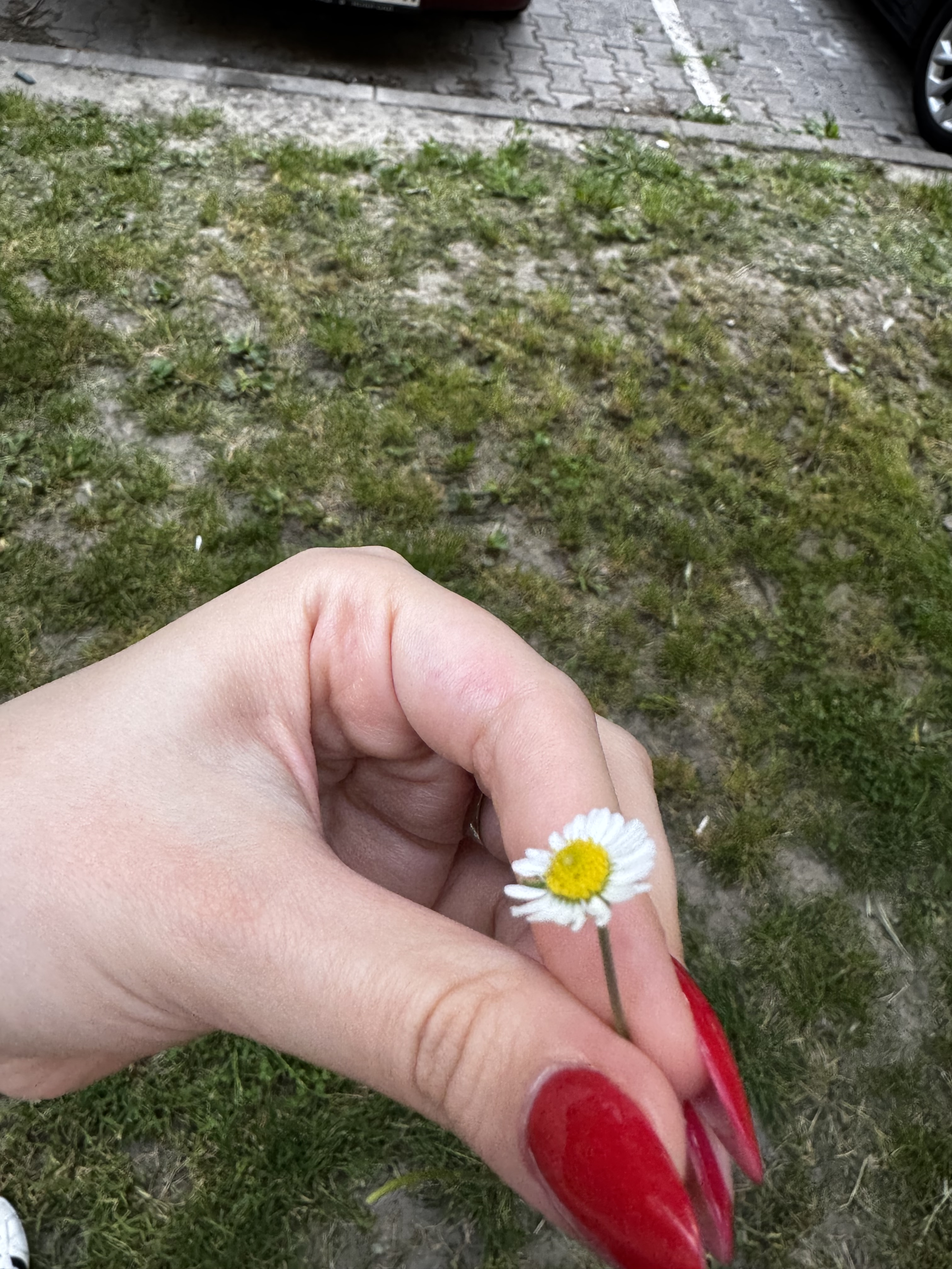daisy: (499, 810, 671, 932)
